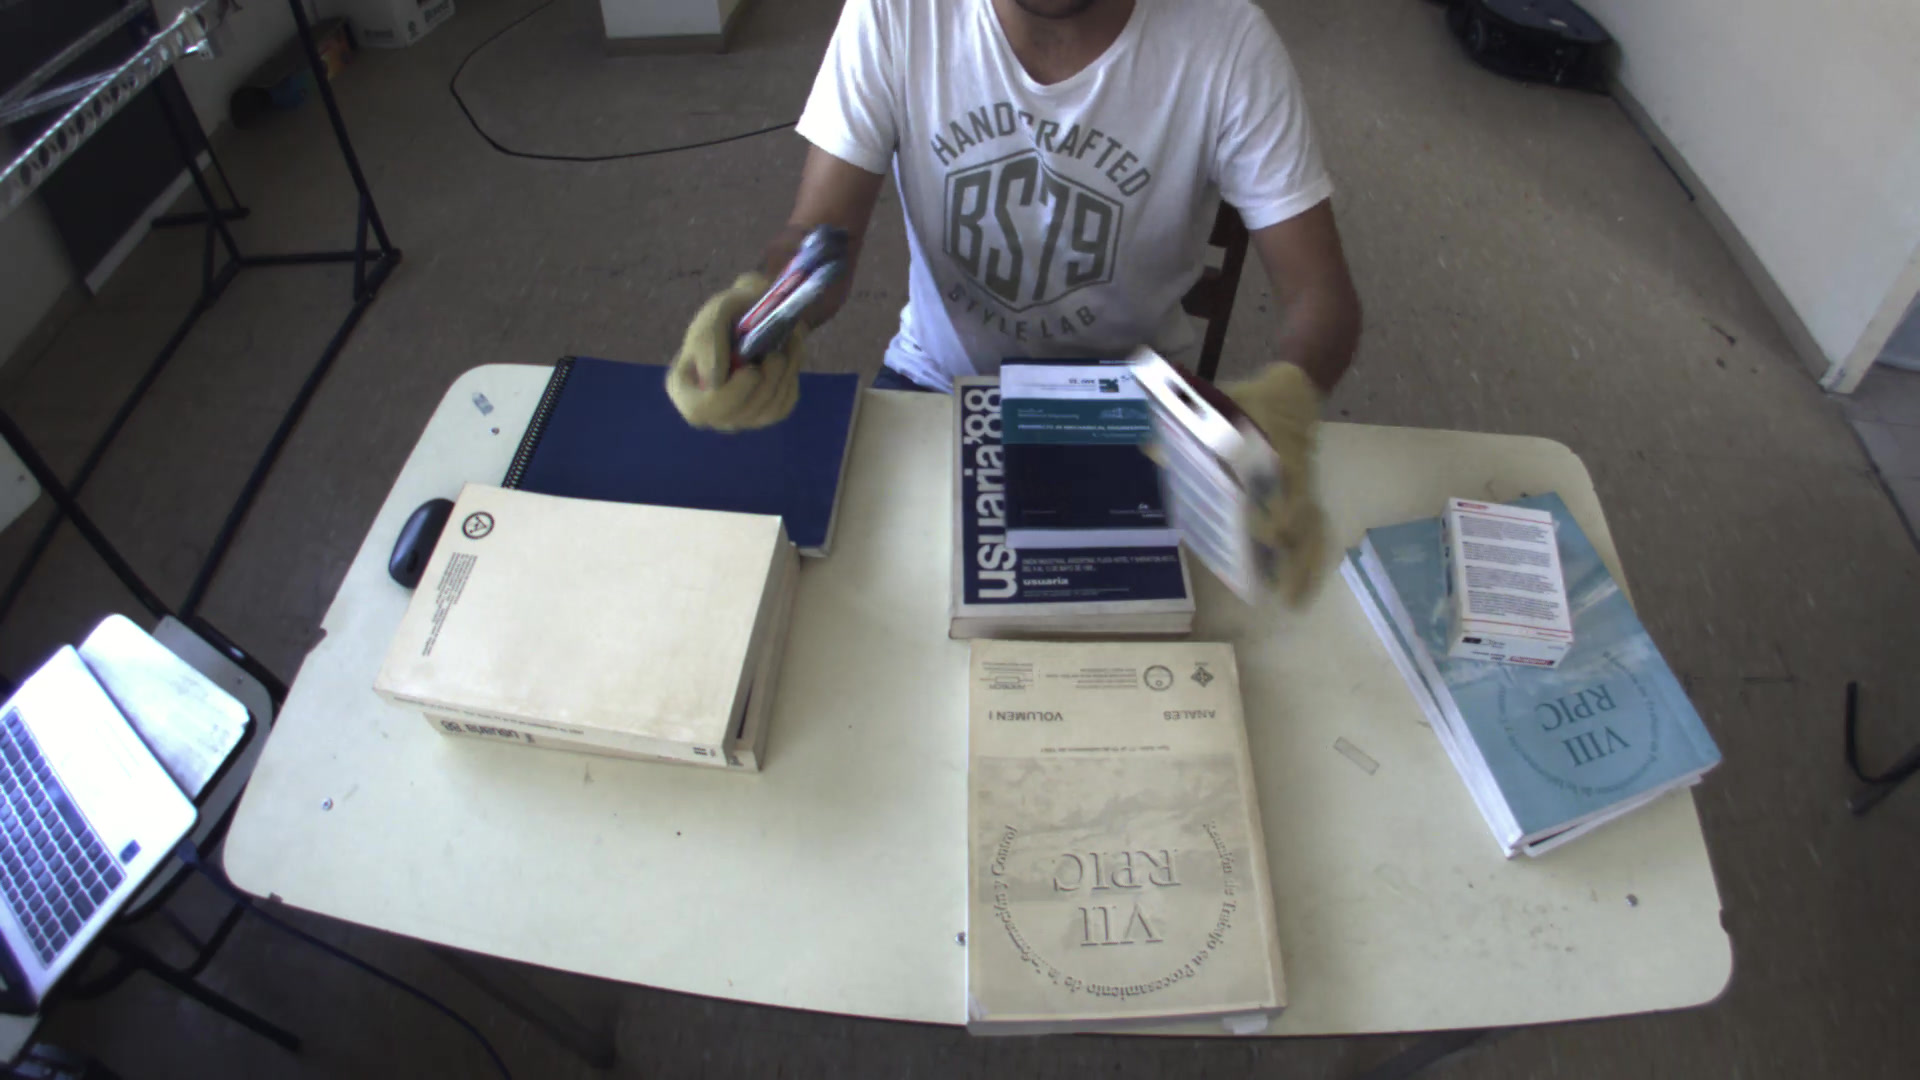hand: (650, 251, 827, 443)
